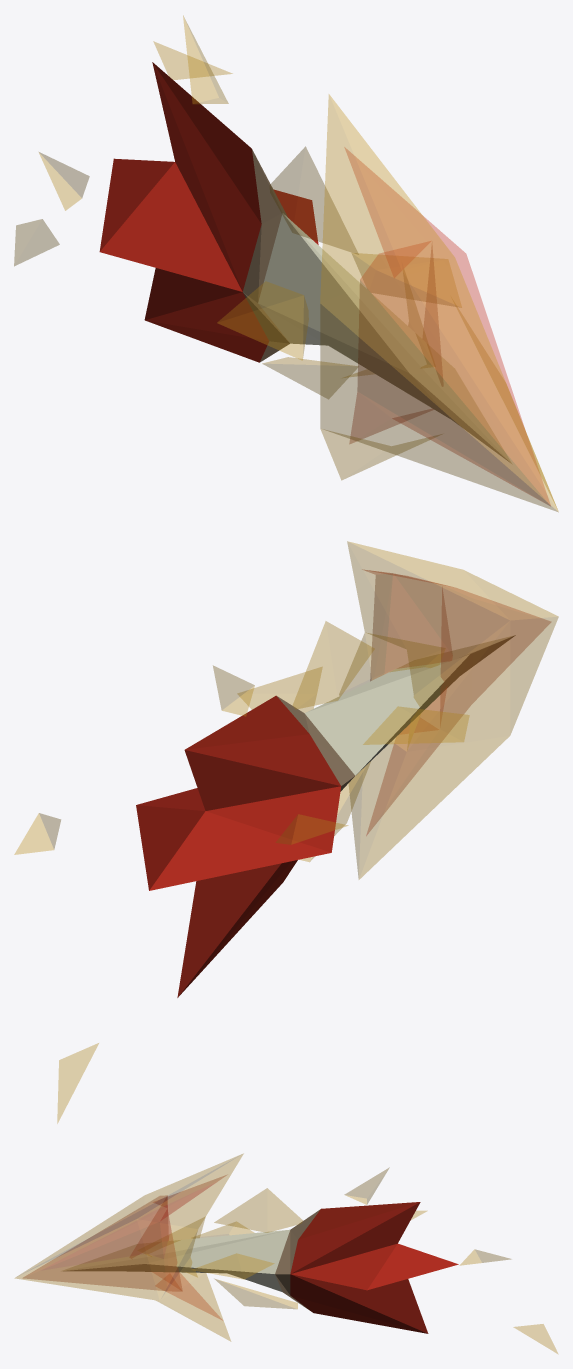
Rendered from dragon_dart.glb.
The picture shows the model from 3 angles, top to bottom: view 1: azimuth 30°, elevation 25°; view 2: azimuth 150°, elevation 25°; view 3: azimuth 270°, elevation 25°; orthographic projection. The views are drawn at different scales.
Size of the model in its own units: 18.99 by 29 by 71.
Materials: 2 (2 with a texture image).
